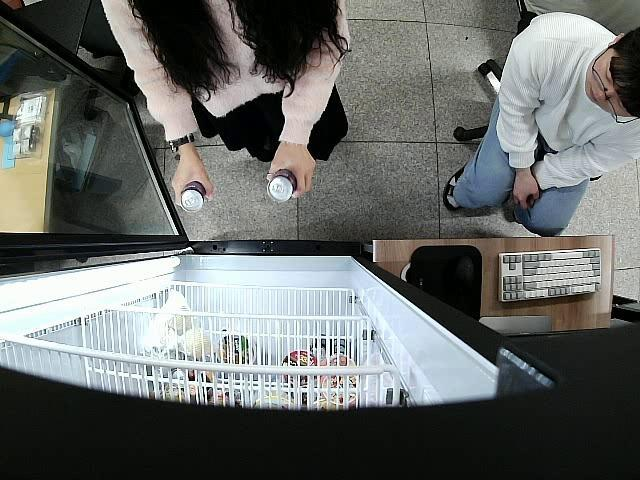16_hot6: (180, 180, 207, 214), (270, 170, 297, 202)
